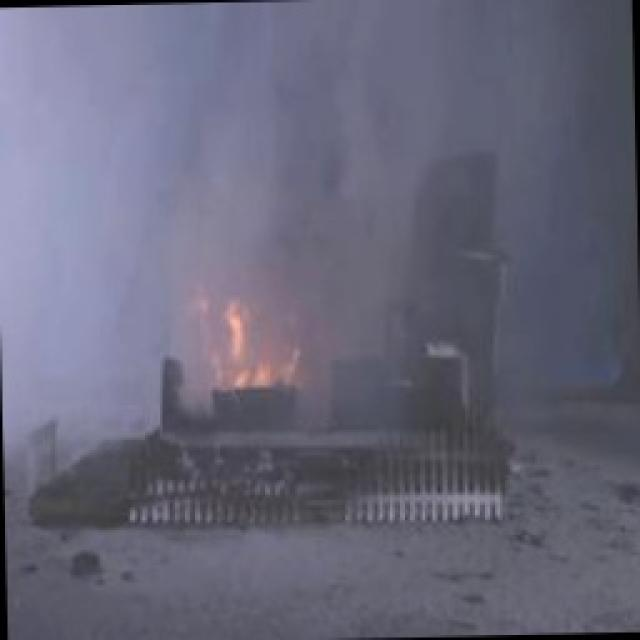fire: (178, 264, 314, 426)
smoke: (0, 0, 397, 292)
